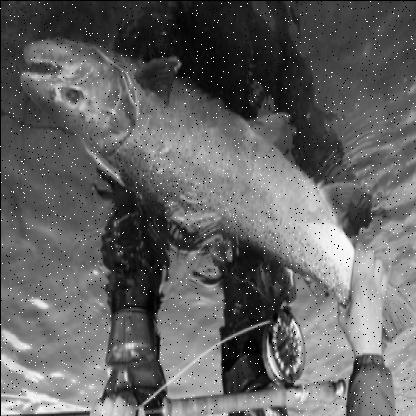fish: (16, 35, 415, 366)
